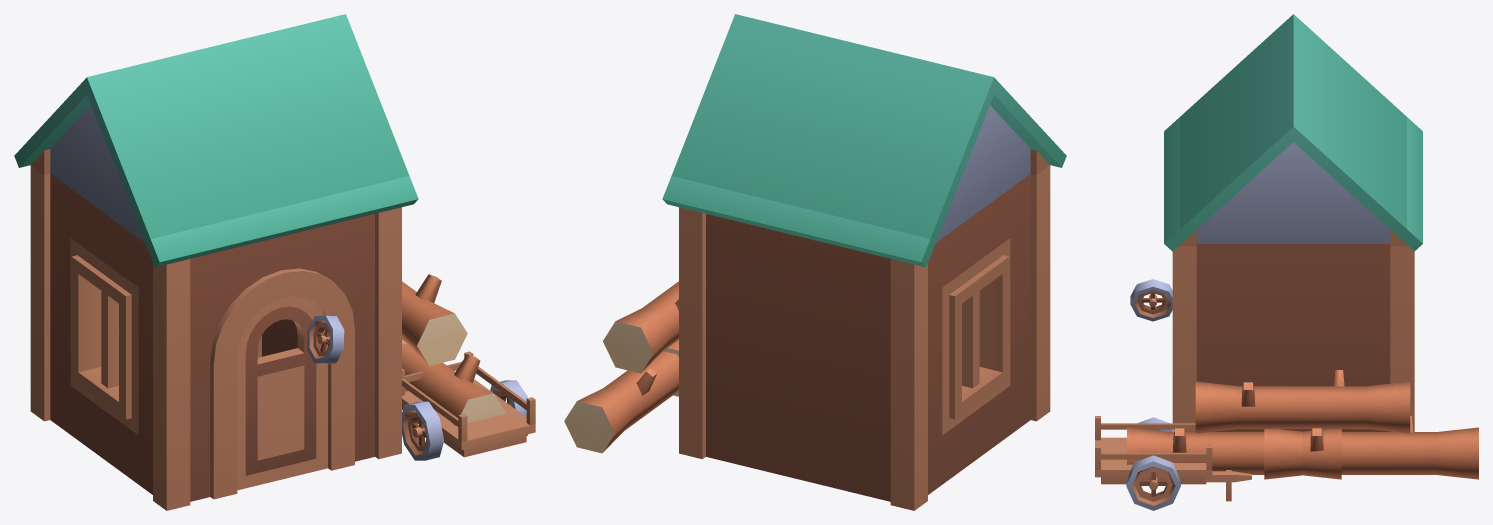
The model's file is lumber_3.glb.
The picture shows the model from 3 angles, left to right: view 1: azimuth 30°, elevation 25°; view 2: azimuth 150°, elevation 25°; view 3: azimuth 270°, elevation 25°; orthographic projection. The views are drawn at different scales.
Parts seen in each view (by area): view 1: lumber_3; view 2: lumber_3; view 3: lumber_3.
Boxes of the visible parts, box(x1,y1,x2,y2) form: lumber_3: box(14, 14, 535, 510); lumber_3: box(564, 14, 1066, 510); lumber_3: box(1095, 14, 1478, 510).
Size of the model in its own units: 0.925 by 0.9738 by 0.9835.
Materials: 10 (10 with a texture image).
